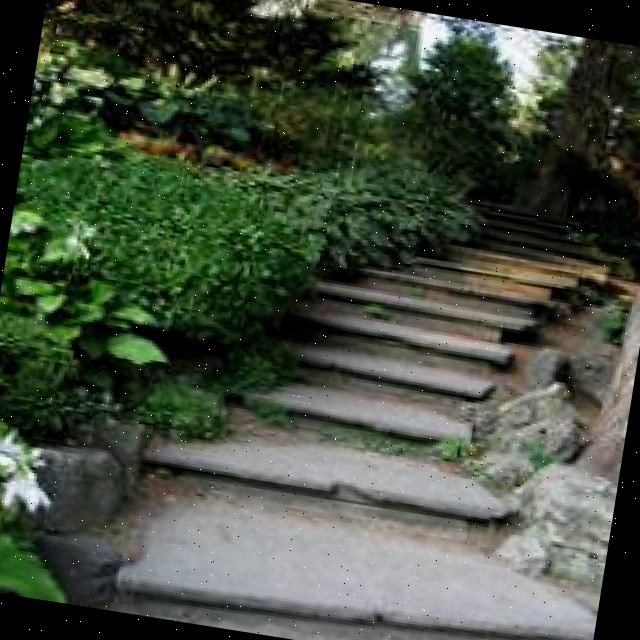stairs: (218, 109, 640, 640)
